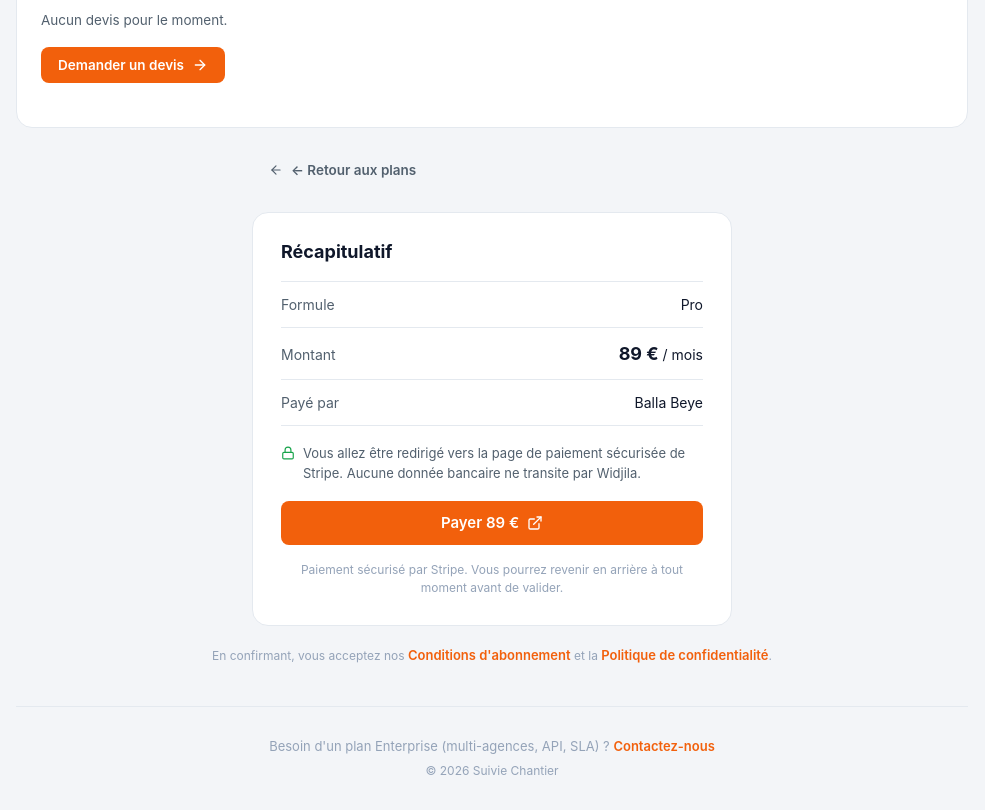
Test: arrivée depuis le mobile avec ?plan= › serveur indisponible au clic « Payer » : un message, pas de départ
The image size is (985, 810).
(page scrolled)
Click the button "Payer 89 €": [492, 523] box [281, 501, 703, 545]
(page scrolled)
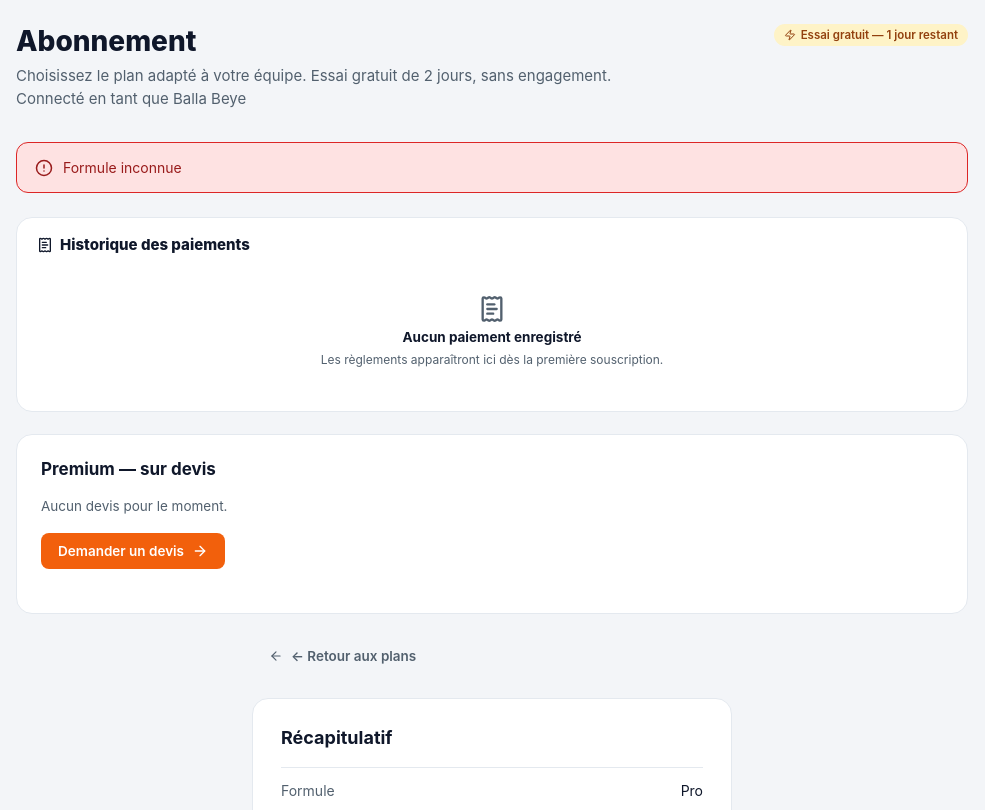
Check: the message "Formule inconnue" is shown, box [16, 142, 968, 193]
